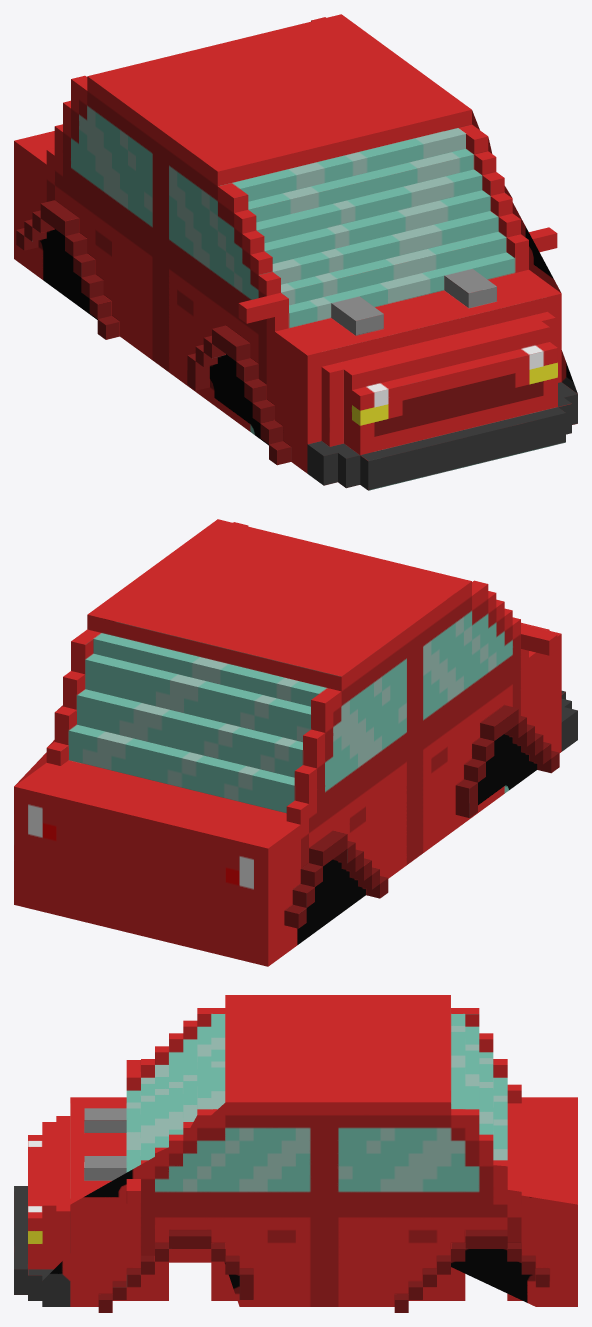
The model's file is Car_Var1_1.obj.
3 renders of one model, top to bottom at view 1: azimuth 30°, elevation 25°; view 2: azimuth 150°, elevation 25°; view 3: azimuth 270°, elevation 25°, orthographic. The views are drawn at different scales.
Parts seen in each view (by area): view 1: Car_Var1_1_Car_Var1_1.001; view 2: Car_Var1_1_Car_Var1_1.001; view 3: Car_Var1_1_Car_Var1_1.001.
Boxes of the visible parts, bbox=[...] form: Car_Var1_1_Car_Var1_1.001: bbox=[14, 14, 577, 490]; Car_Var1_1_Car_Var1_1.001: bbox=[14, 519, 577, 966]; Car_Var1_1_Car_Var1_1.001: bbox=[14, 995, 577, 1312].
Size of the model in its own units: 2.2 by 1.6 by 4.
